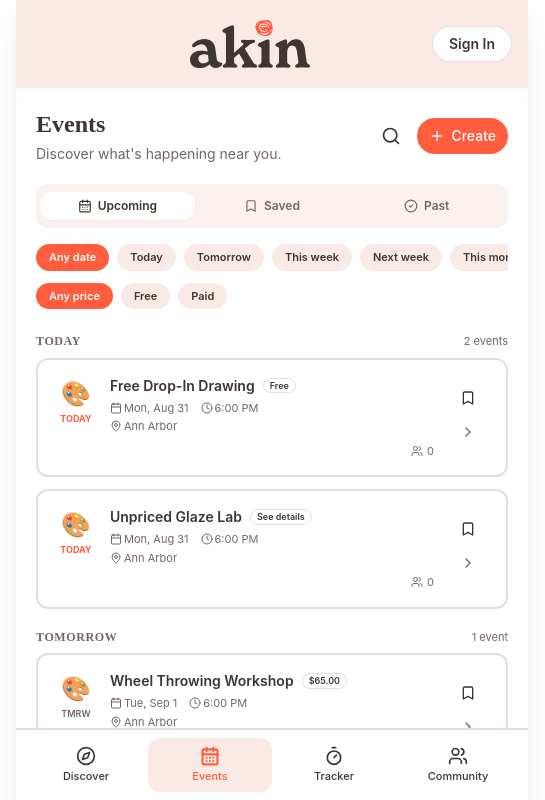
Test: /events browse filters › narrows to today without needing a typed search
Click the button "Today" at (147, 257), box [117,244,176,270]
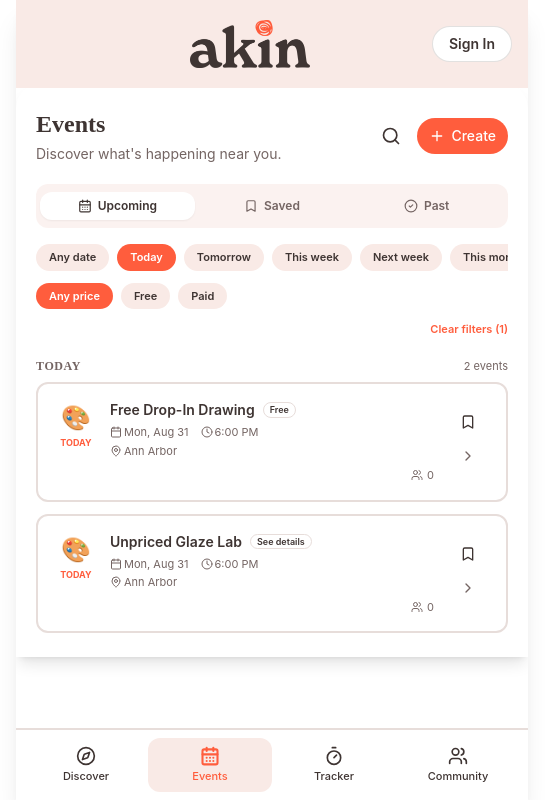
Expected: the text "Free Drop-In Drawing" is shown, [110,400,255,420]
Expected: the link "Wheel Throwing Workshop" is gone
